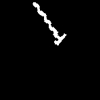half_double_crochet: (33, 3, 65, 44)
